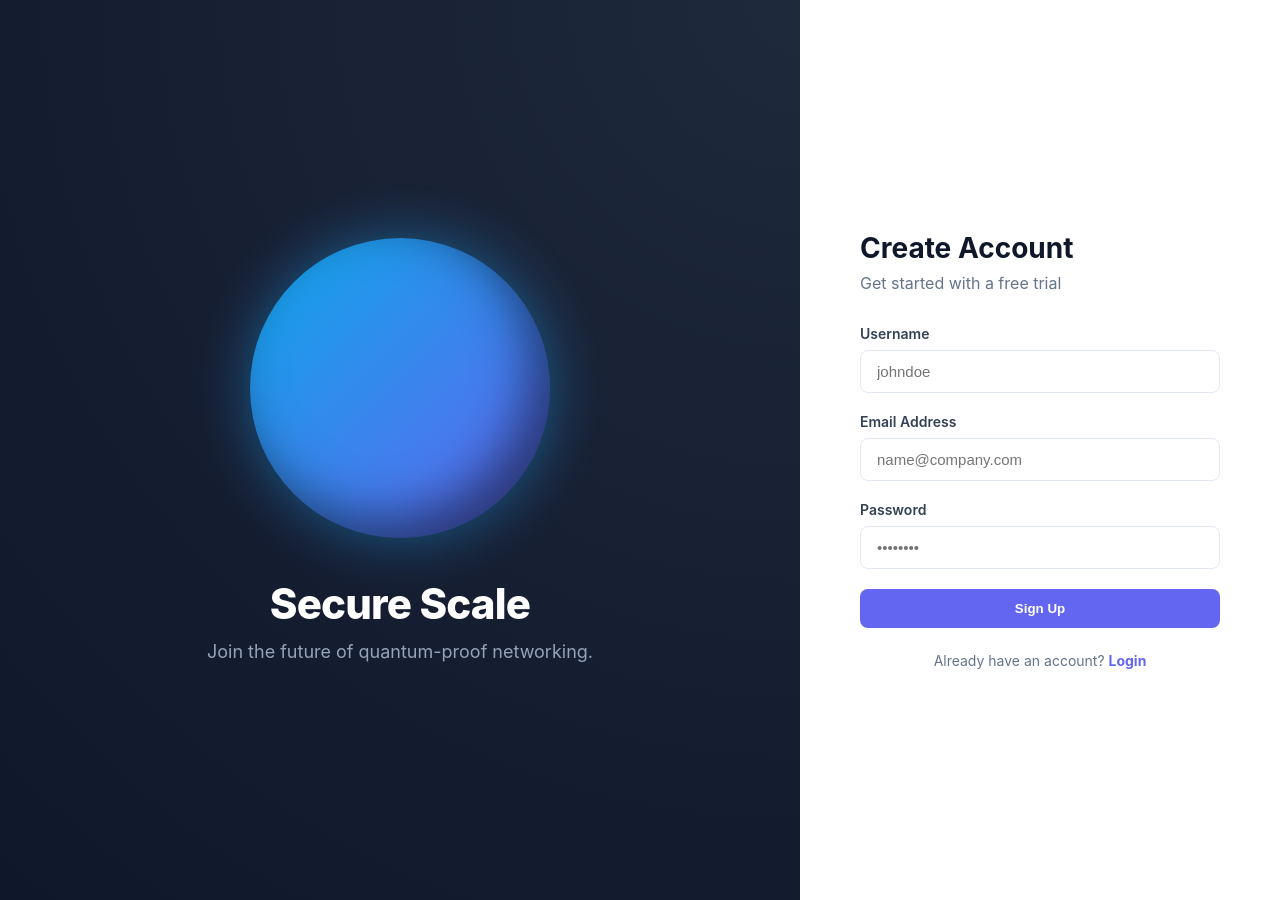
Signup Component › shows error for invalid email
The image size is (1280, 900).
Type "john" into the field with placeholder "johndoe" at (1040, 372), box [860,350,1220,393]
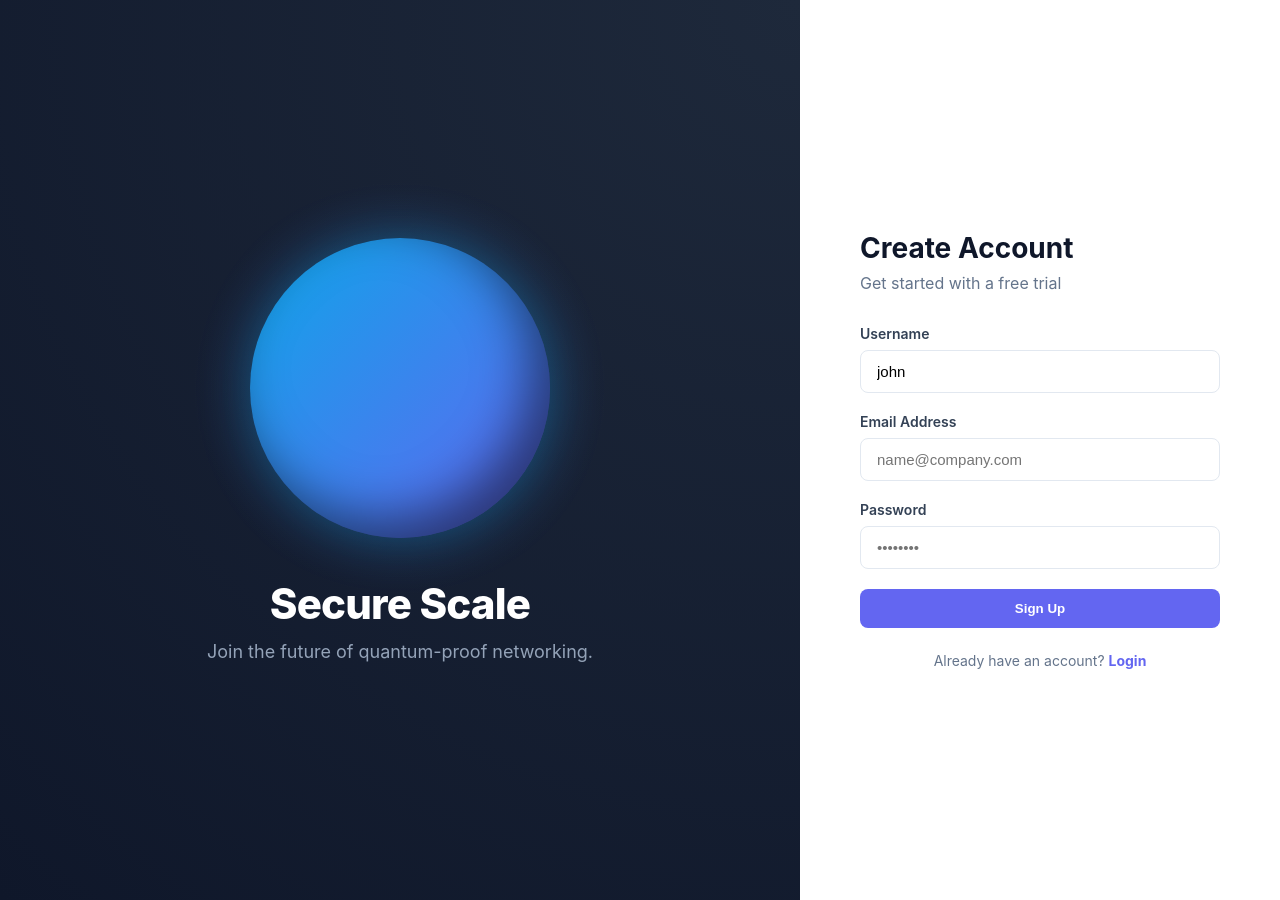
Type "invalid" into the field with placeholder "name@company.com" at (1040, 460), box [860,438,1220,481]
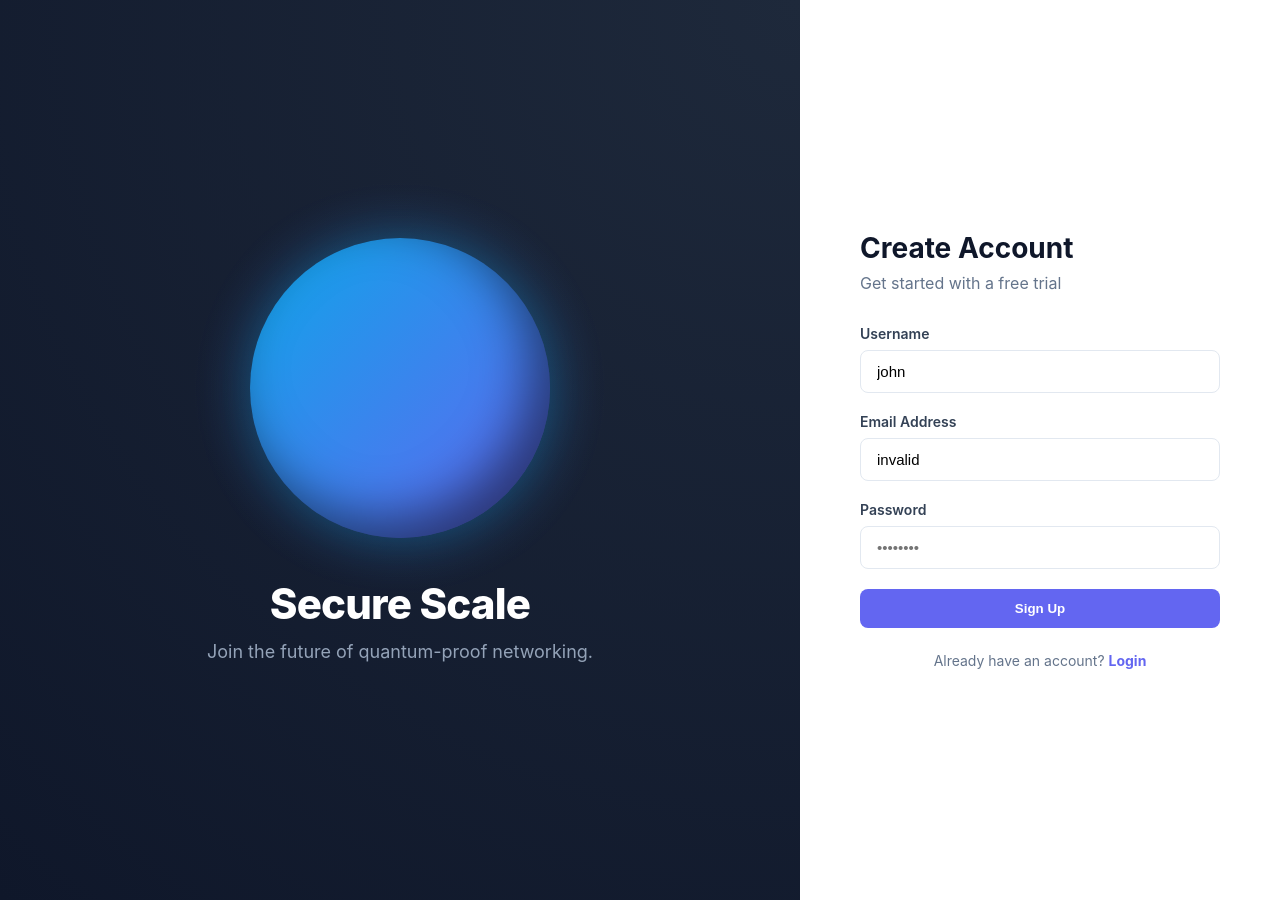
Type "password123" into the password field with placeholder "••••••••" at (1040, 548), box [860,526,1220,569]
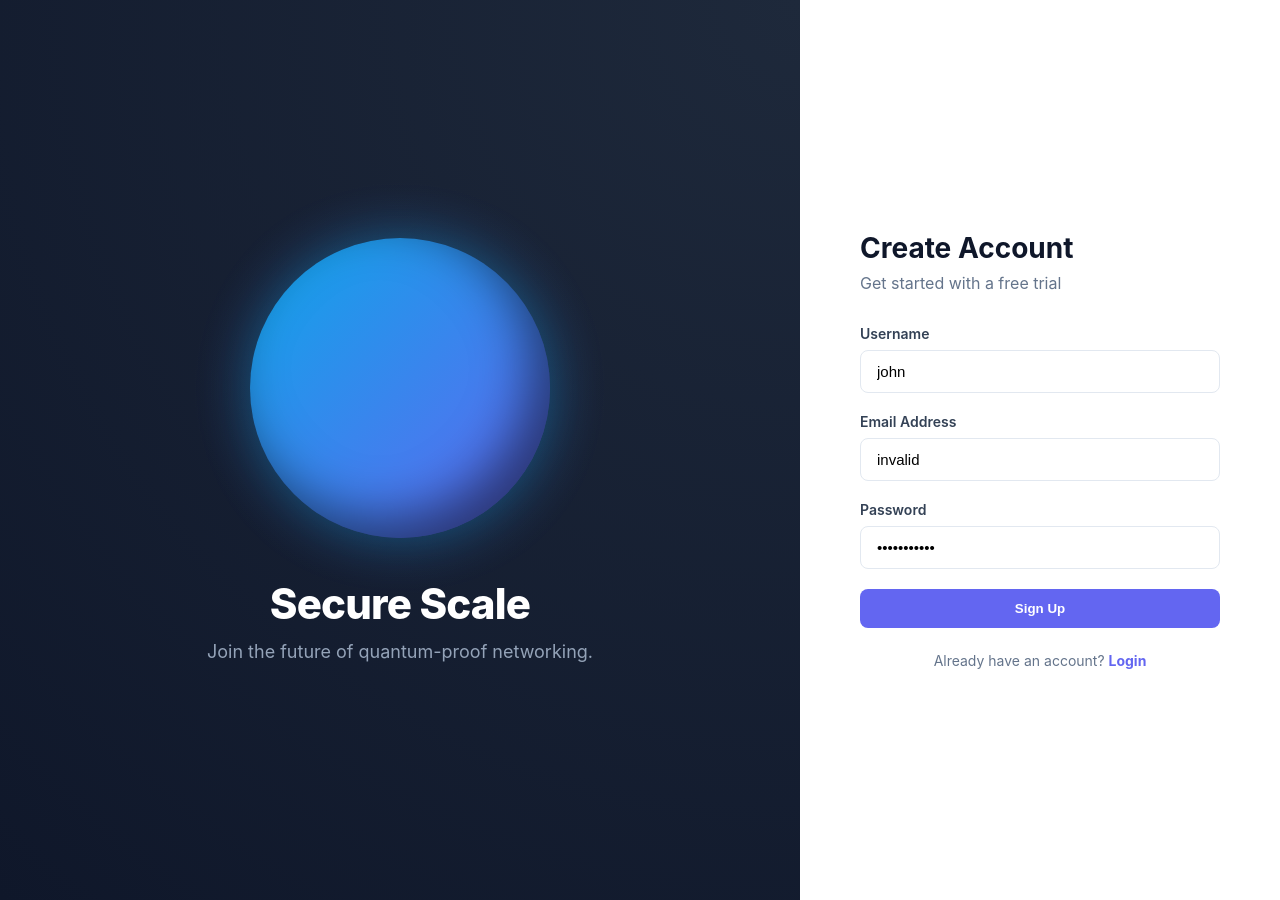
Click the button "Sign Up" at (1040, 608), box [860,589,1220,628]
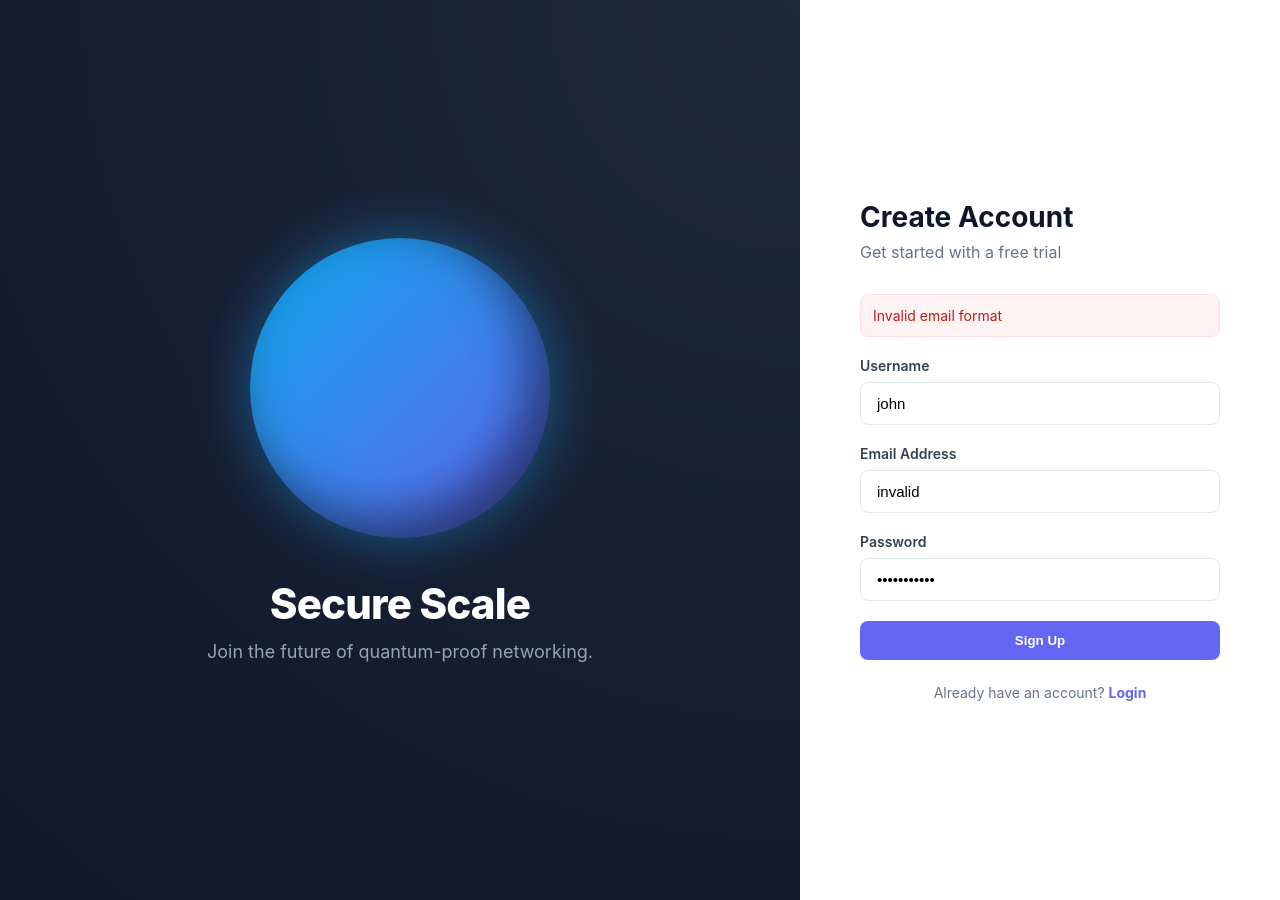
Expected: the text "Invalid email format" is shown, [860,294,1220,336]
